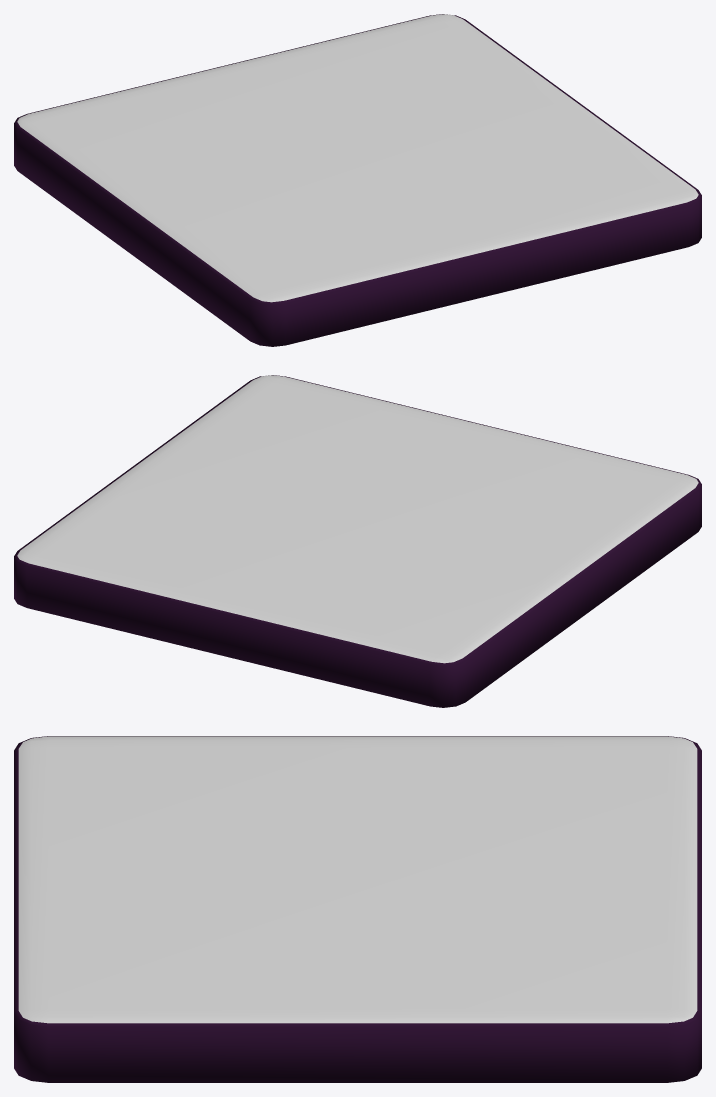
3 renders of one model, top to bottom at view 1: azimuth 30°, elevation 25°; view 2: azimuth 150°, elevation 25°; view 3: azimuth 270°, elevation 25°, orthographic. The views are drawn at different scales.
Visible parts, largest first — view 1: grid; view 2: grid; view 3: grid.
Boxes of the visible parts, <box> form: grid: <box>14,14,701,346</box>; grid: <box>14,375,701,707</box>; grid: <box>14,736,701,1082</box>.
Size of the model in its own units: 100 by 10 by 100.
